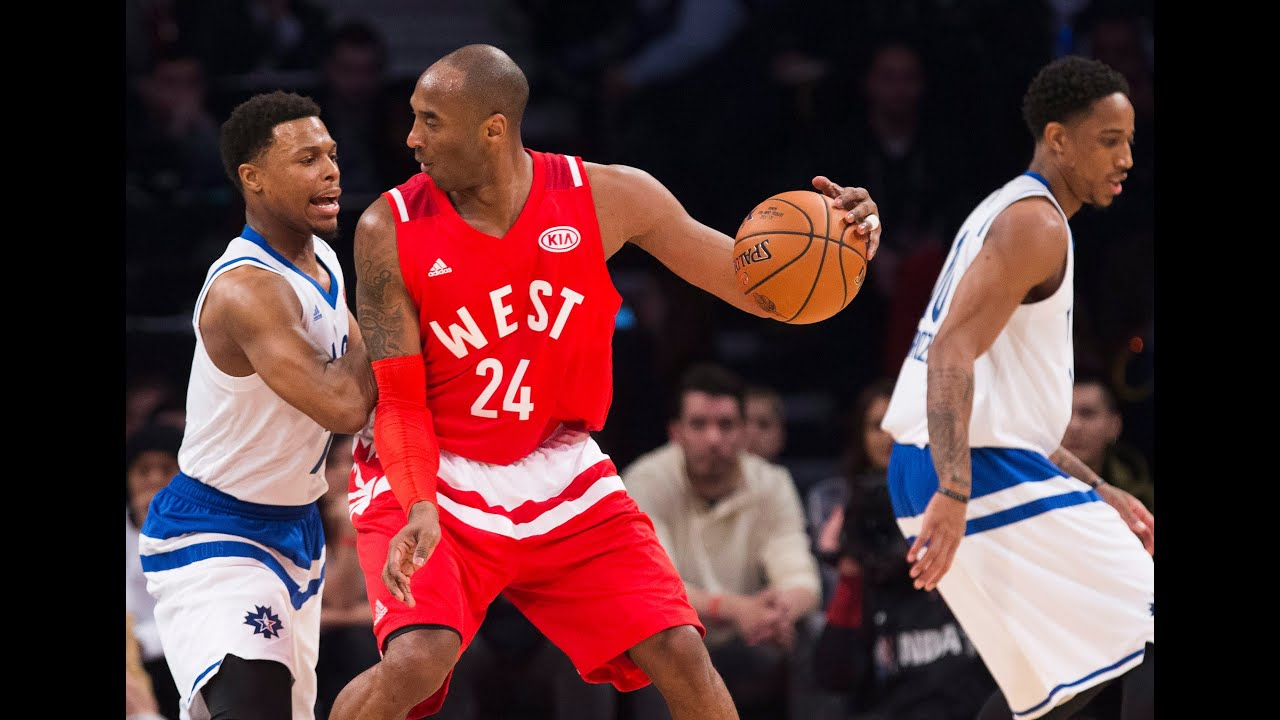Basketball: (732, 189, 870, 329)
